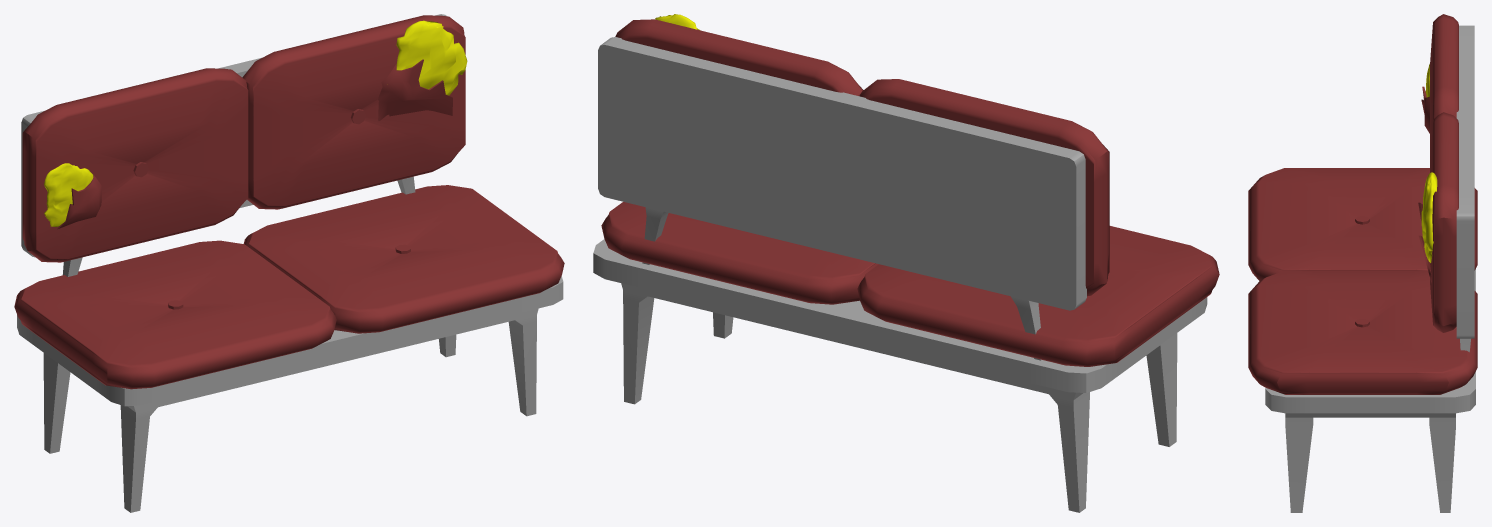
Rendered from Sofa.fbx.
3 renders of one model, left to right at view 1: azimuth 30°, elevation 25°; view 2: azimuth 150°, elevation 25°; view 3: azimuth 270°, elevation 25°, orthographic. The views are drawn at different scales.
Visible parts, largest first — view 1: Sofa1; view 2: Sofa1; view 3: Sofa1.
Part boxes in pixels (bbox=[...]): Sofa1: bbox=[14, 14, 564, 512]; Sofa1: bbox=[593, 14, 1219, 512]; Sofa1: bbox=[1248, 14, 1477, 512].
Bounding box in the file's own units: 2.02 × 1.46 × 0.9461.
